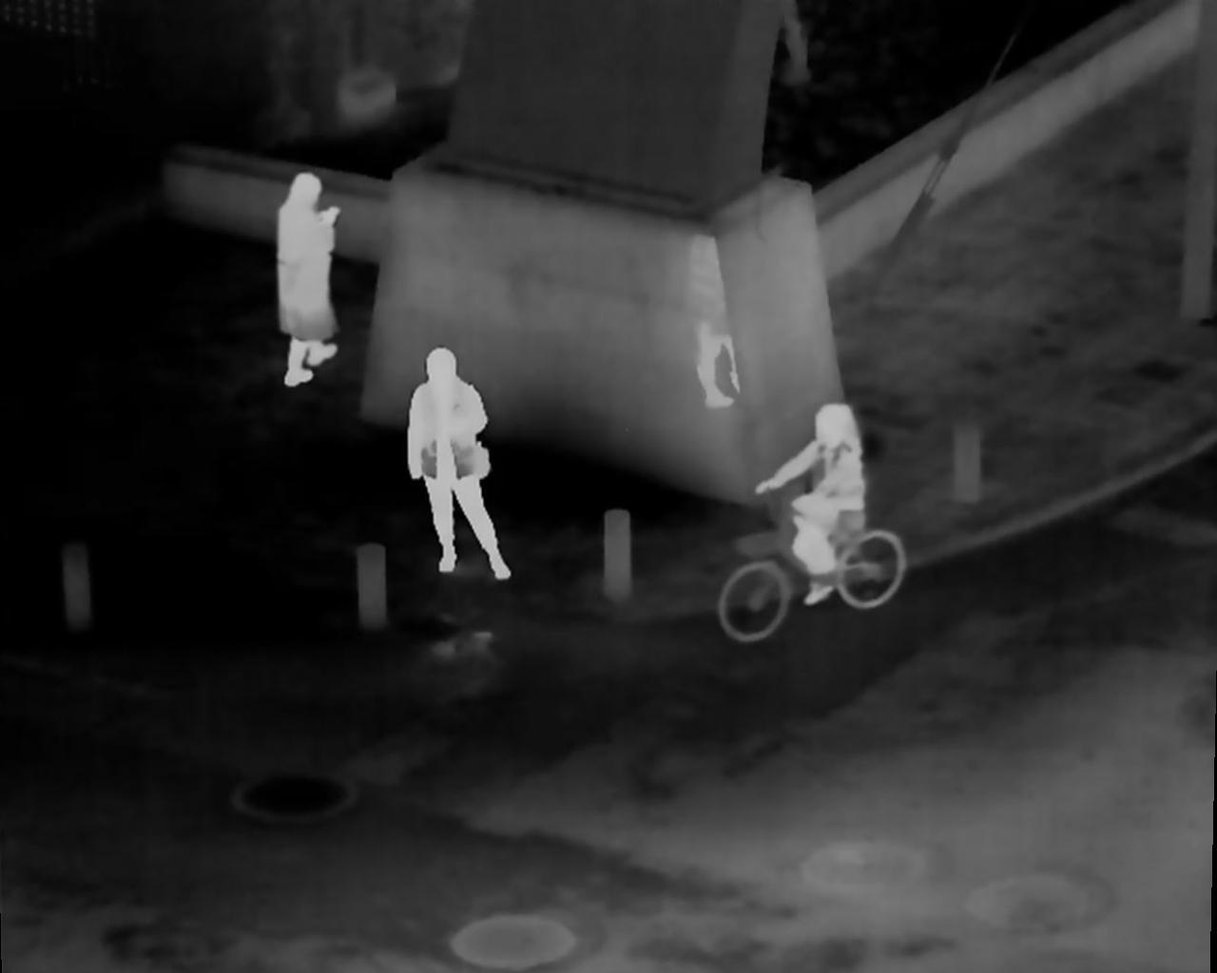person: (754, 398, 872, 607), (409, 344, 512, 582), (277, 172, 342, 392)
